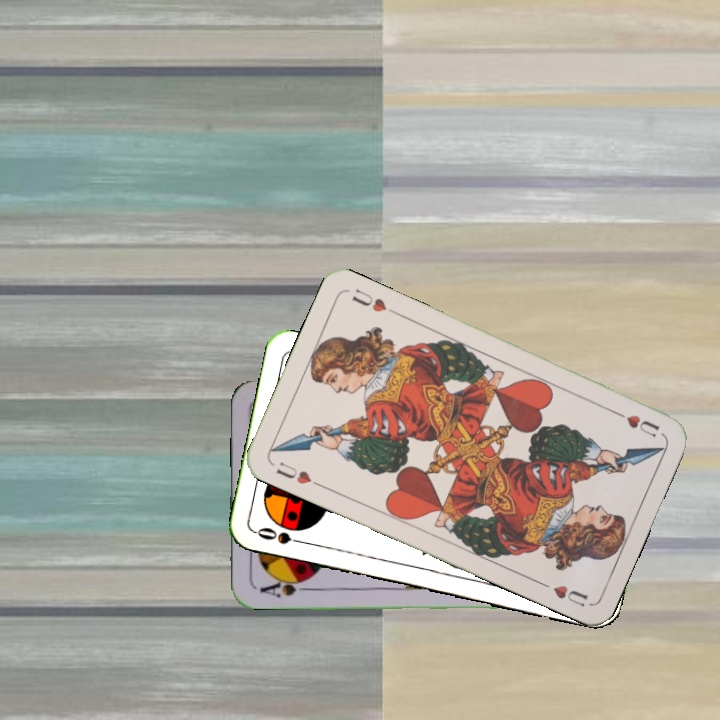HU: (609, 406, 663, 440), (272, 457, 324, 490)
SA: (256, 574, 312, 600)
SO: (252, 523, 311, 548)
